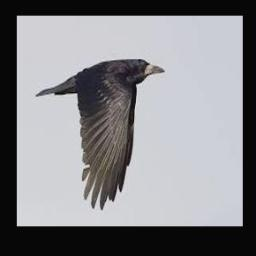Crow: (37, 58, 166, 207)
